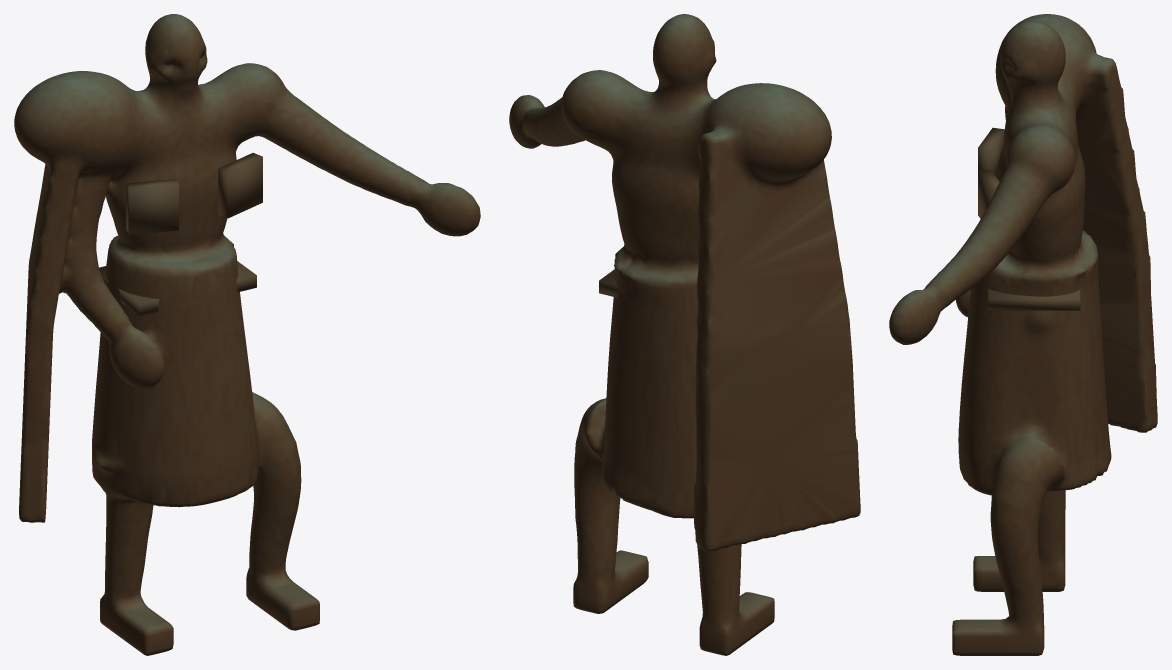
Rendered from vazha.glb.
3 renders of one model, left to right at view 1: azimuth 30°, elevation 25°; view 2: azimuth 150°, elevation 25°; view 3: azimuth 270°, elevation 25°, orthographic. The views are drawn at different scales.
Parts seen in each view (by area): view 1: vz_m; view 2: vz_m; view 3: vz_m.
Part boxes in pixels (<box>): vz_m: <box>14,14,480,655</box>; vz_m: <box>509,14,860,655</box>; vz_m: <box>889,14,1157,655</box>.
Size of the model in its own units: 0.6922 by 1 by 0.4153.
